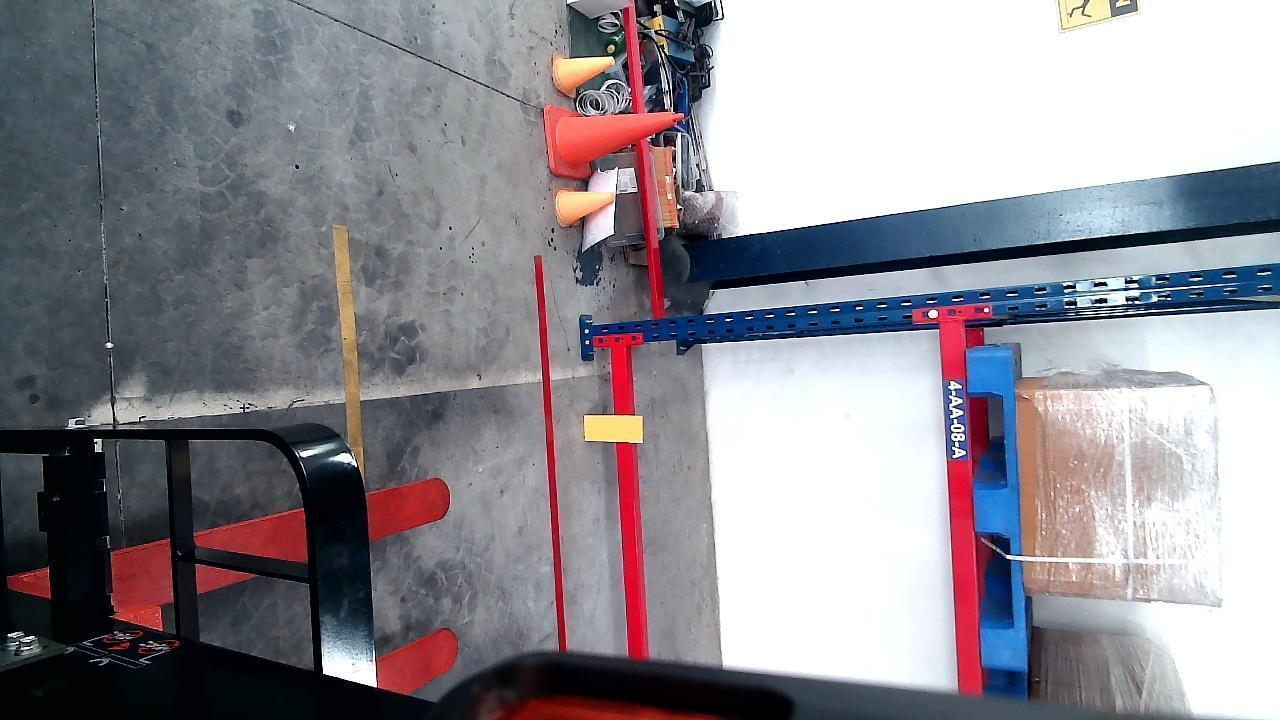red_line: (537, 266, 570, 651)
yellow_line: (335, 221, 365, 465)
